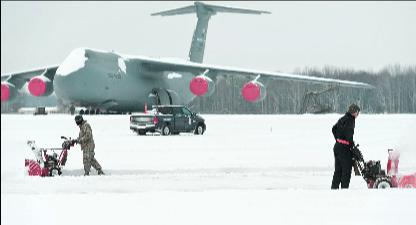C17: (0, 1, 378, 116)
